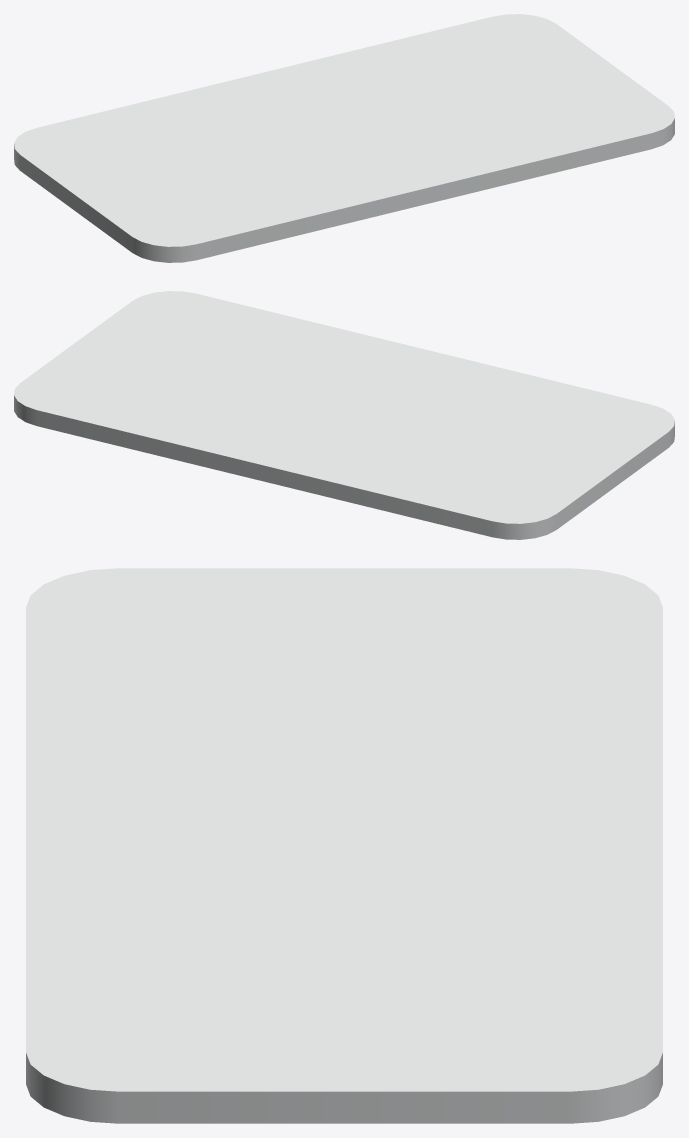
The model's file is Platform.Rounded.001.fbx.
3 views of the same model, one above another, from view 1: azimuth 30°, elevation 25°; view 2: azimuth 150°, elevation 25°; view 3: azimuth 270°, elevation 25° (orthographic). The views are drawn at different scales.
Parts seen in each view (by area): view 1: Platform.Rounded.001; view 2: Platform.Rounded.001; view 3: Platform.Rounded.001.
Boxes of the visible parts, x1=… form: Platform.Rounded.001: x1=14, y1=14, x2=674, y2=262; Platform.Rounded.001: x1=14, y1=291, x2=674, y2=539; Platform.Rounded.001: x1=26, y1=568, x2=662, y2=1123.
Size of the model in its own units: 35 by 1 by 18.
